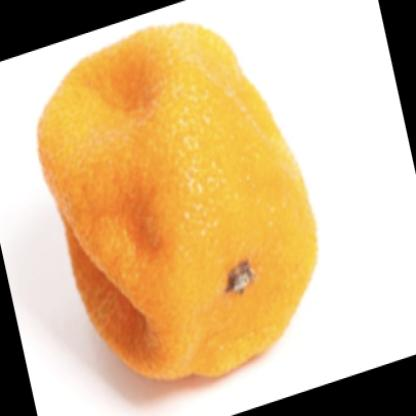rotten: (39, 27, 316, 383)
